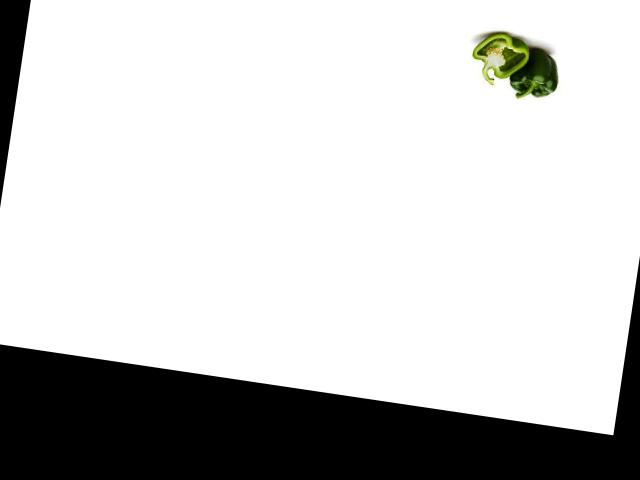bell_pepper: (465, 29, 533, 91)
